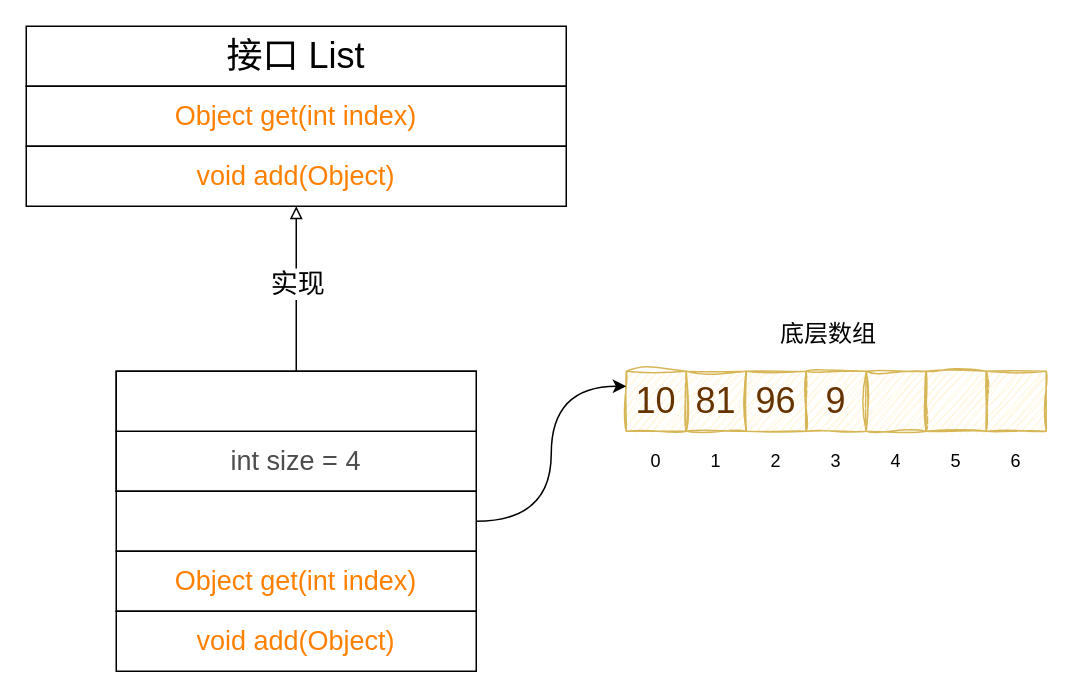
This 1073x698 diagram has some shape labels left out. Here are the shapes that lost their labels. From the top down, the centre of each, then its label:
At (295,400): "类 ArrayList".
At (295,520): "Object[] elementData".
